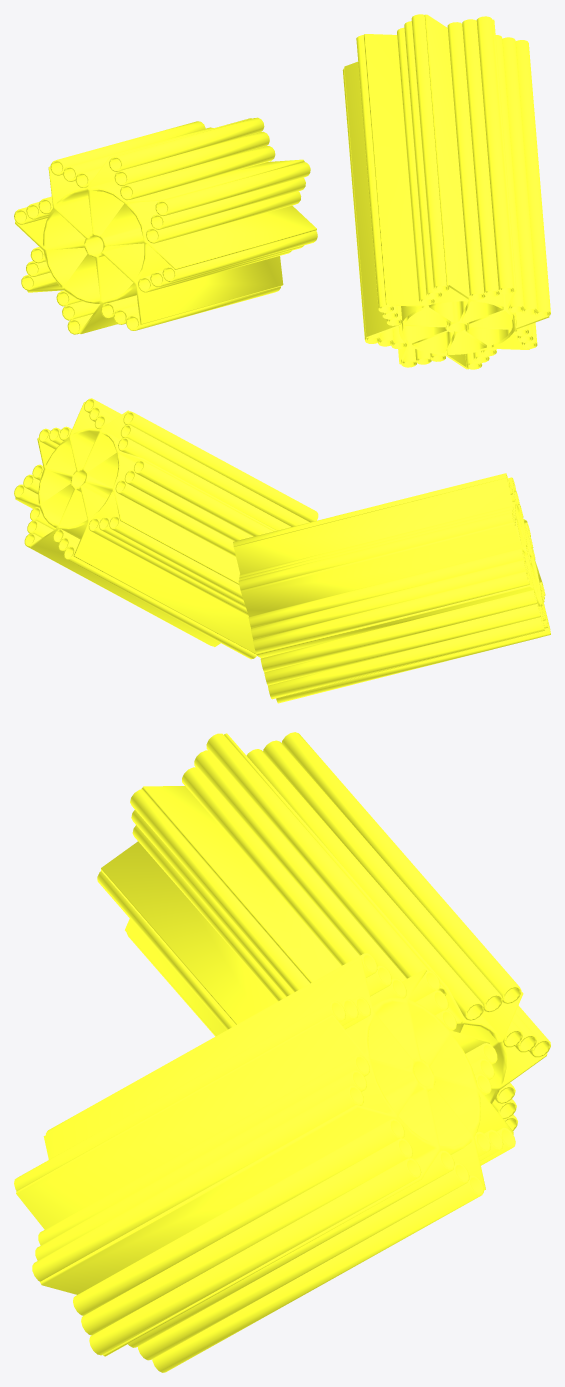
The model's file is microtubules_selected.glb.
3 views of the same model, one above another, from view 1: azimuth 30°, elevation 25°; view 2: azimuth 150°, elevation 25°; view 3: azimuth 270°, elevation 25° (orthographic). The views are drawn at different scales.
Visible parts, largest first — view 1: Microtubules.001; view 2: Microtubules.001; view 3: Microtubules.001.
Part boxes in pixels (x1,y1,x2,y2): Microtubules.001: (14, 14, 550, 369); Microtubules.001: (14, 398, 550, 703); Microtubules.001: (14, 732, 550, 1372).
Bounding box in the file's own units: 0.8843 × 0.4763 × 0.5404.
